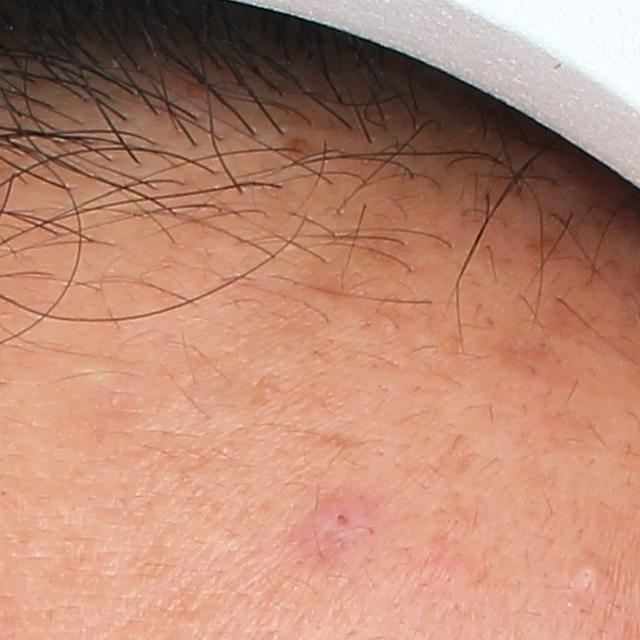comedo: (568, 556, 606, 591)
papule: (294, 487, 377, 545)
